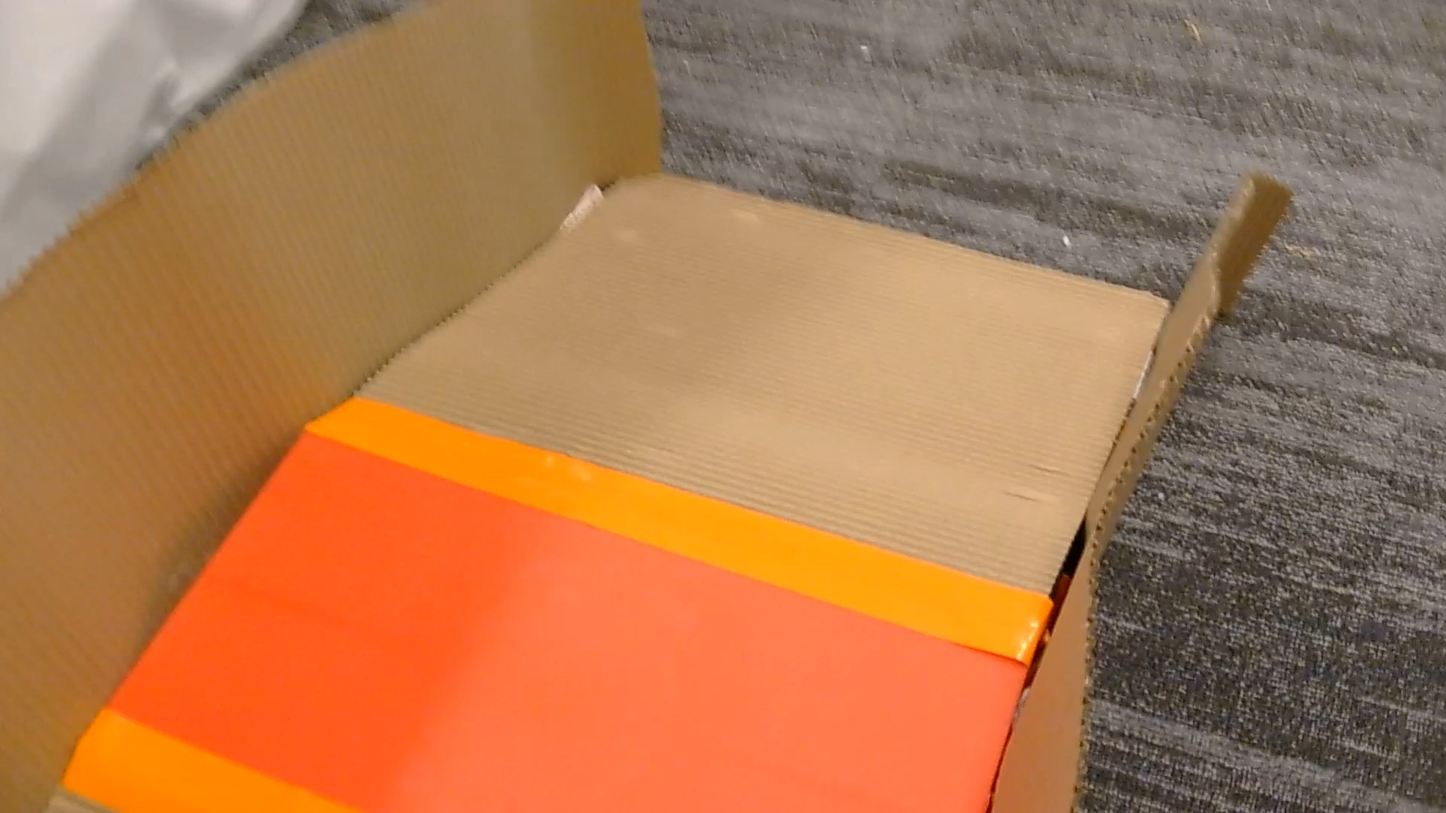Ramp: (0, 0, 1289, 812)
